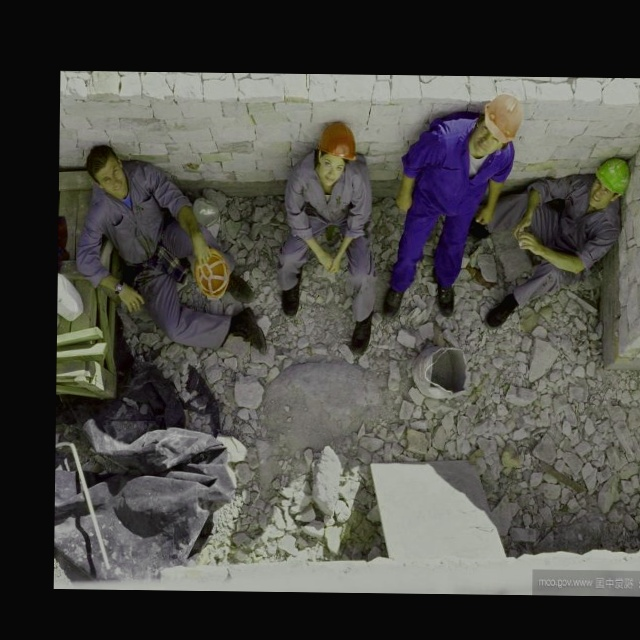Con_Casco: (476, 96, 521, 156), (319, 122, 355, 181), (590, 157, 630, 208)
Sin_Casco_Mascarrilla: (84, 145, 131, 199)
